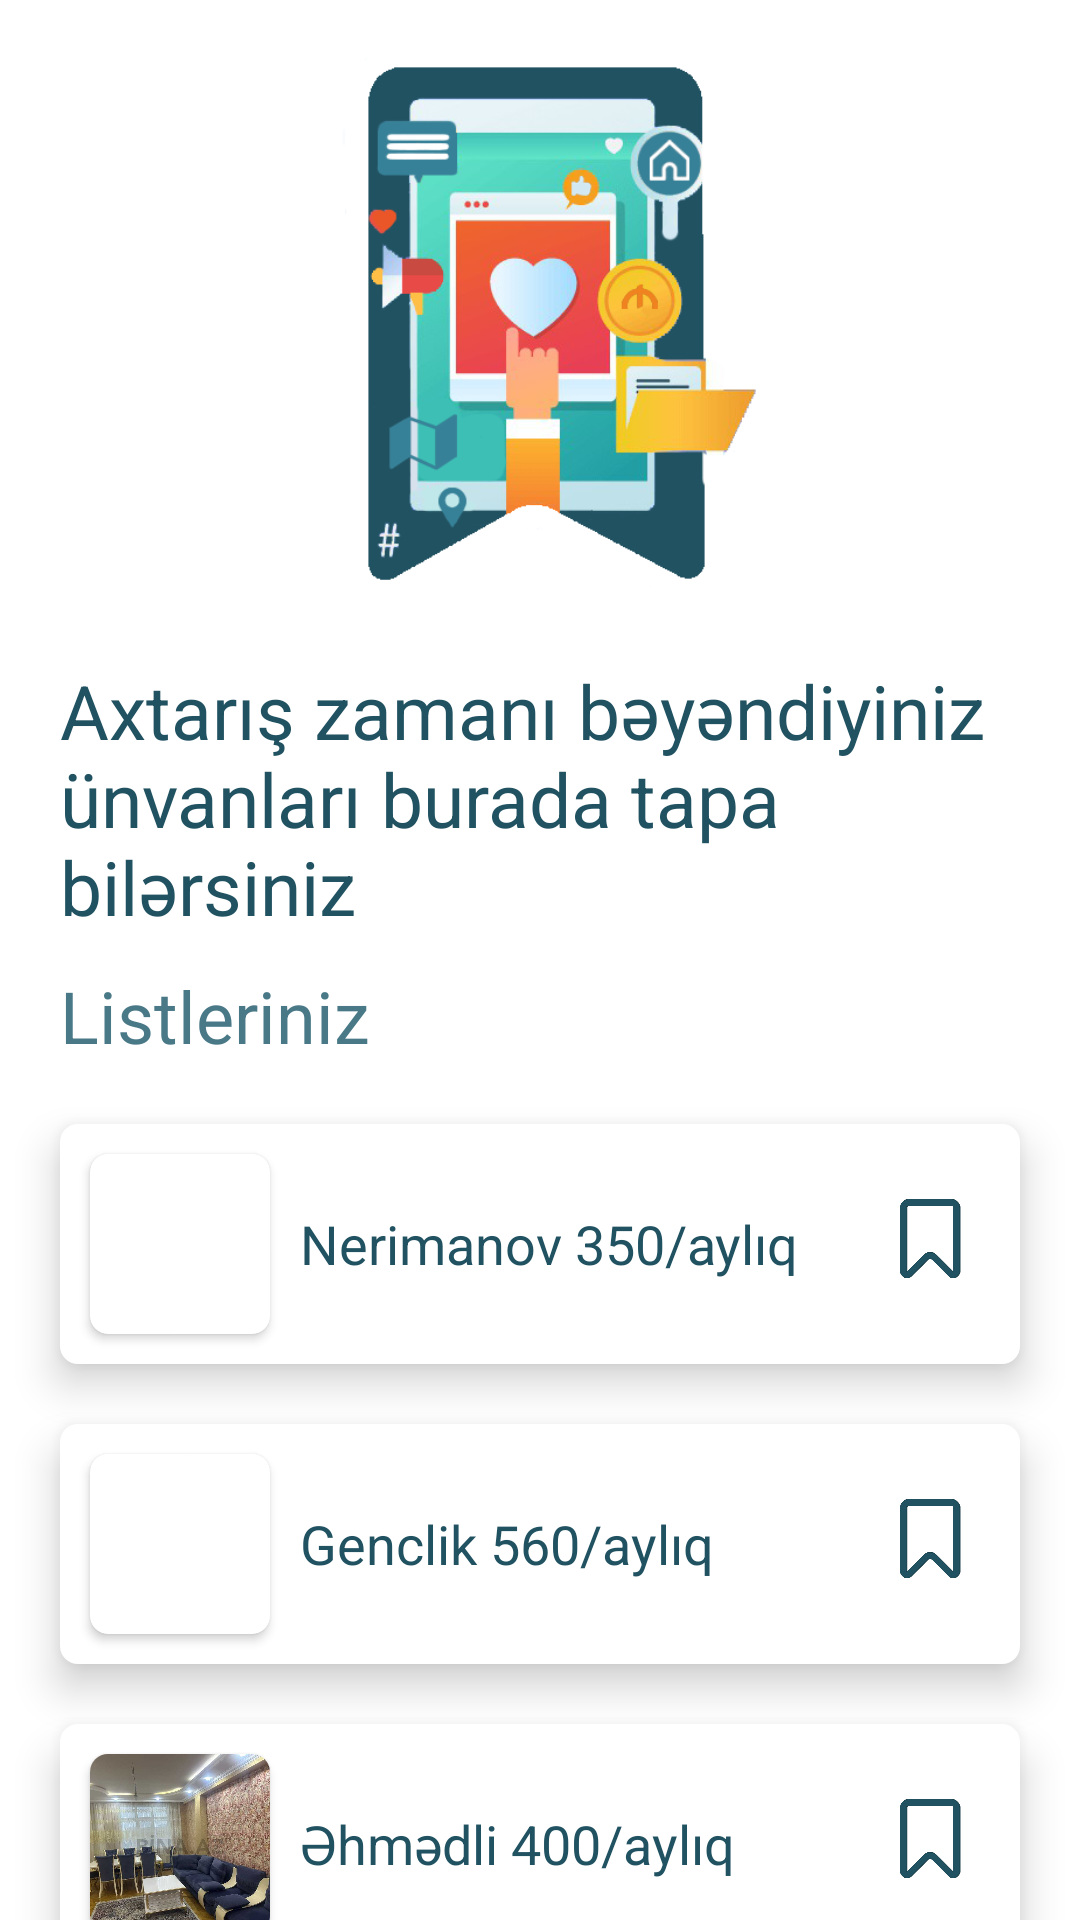

Locate icon controls on the screen. Image size 1080 x 1920, boxes as (x1, y1, x2, y2).
savelast: (900, 1199, 961, 1278), (900, 1499, 961, 1578), (900, 1799, 961, 1878)
